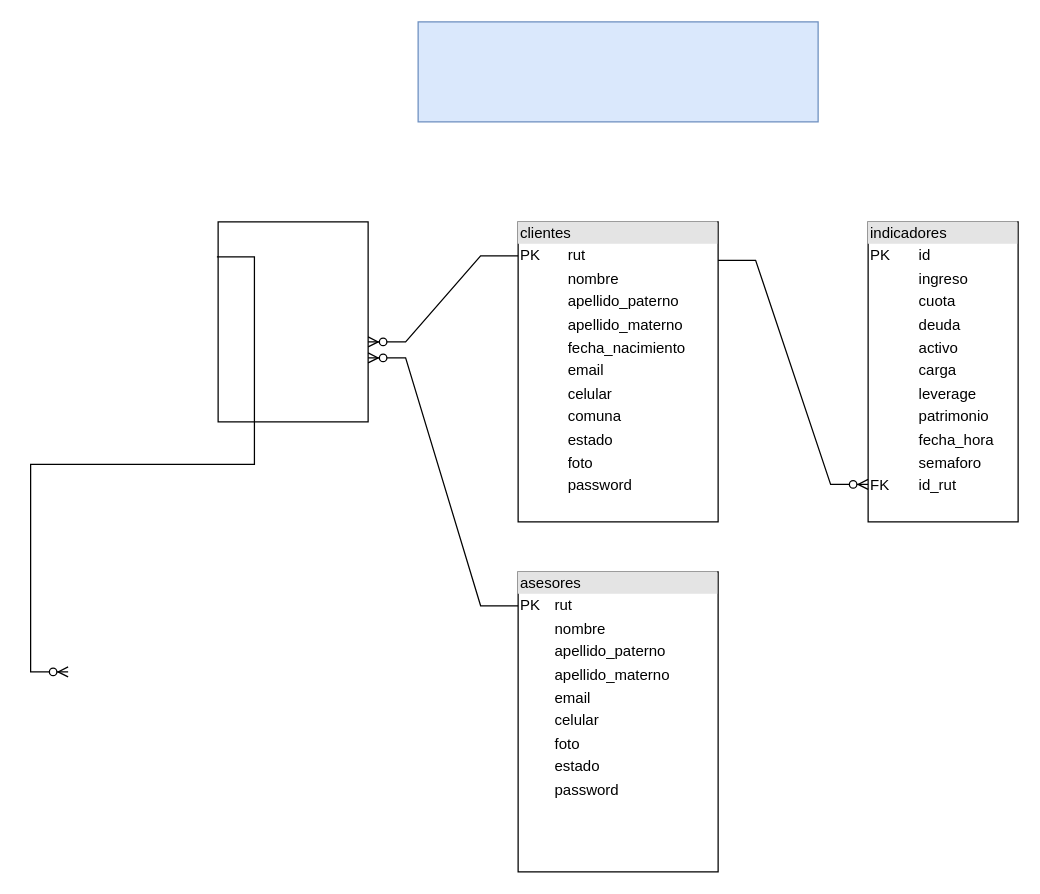
The diagram is 1040 pixels wide and 894 high, and some of its shapes have lost their labels. The shapes that lost their labels are listed below. From the top down, each one's box as (x1, y1, x2, y2) in pixels, then its label:
(417, 21, 818, 122): Diagrama Lógico
(217, 221, 368, 422): citas PK id_cita fecha hora estado FK id_rut FK id_asesor
